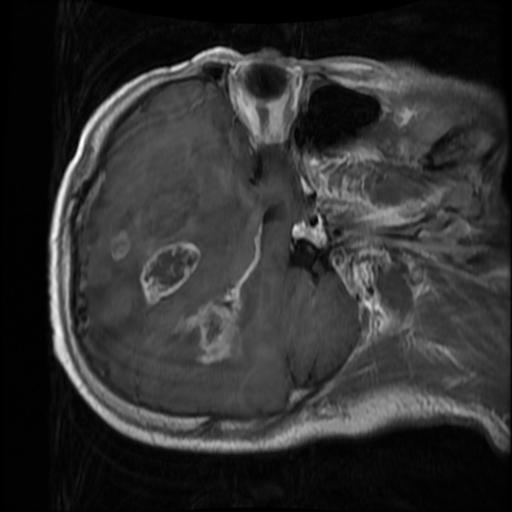glioma: (138, 242, 201, 307)
